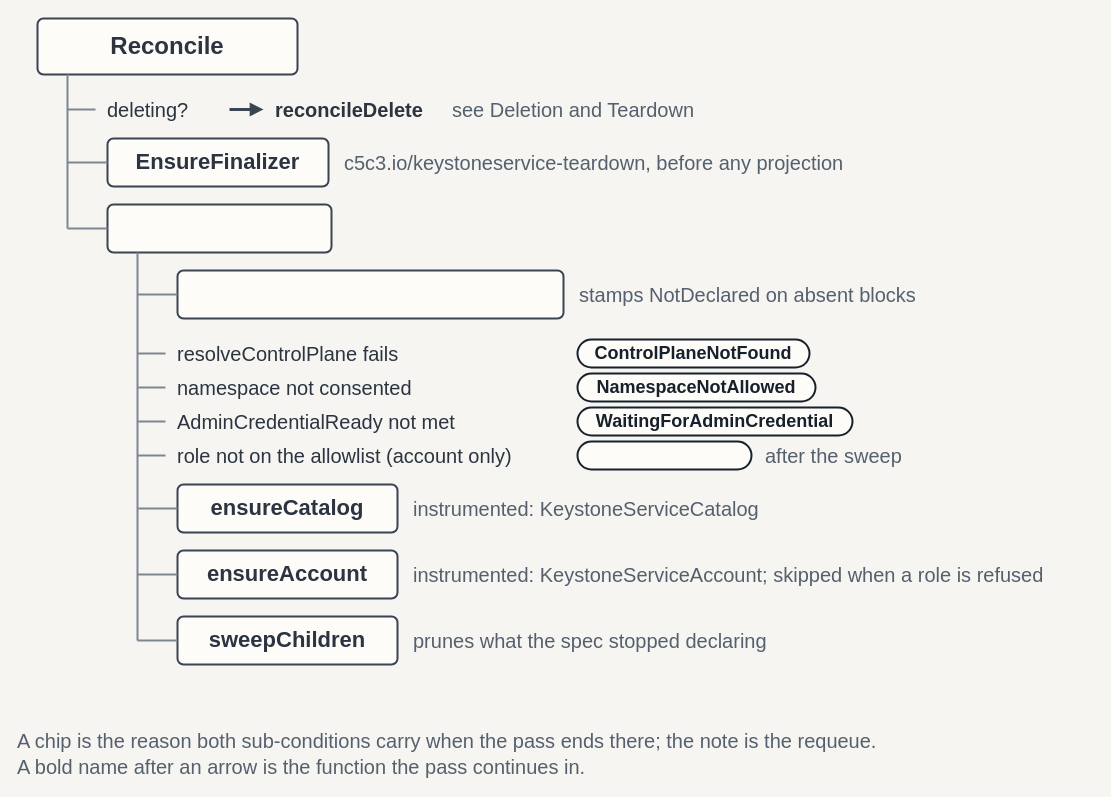
Image size: 1111x797. Some labels were removed from this diagram. The centre of each missing label's shape, as x and y in pixels:
reconcileNormal: point (219, 228)
RoleNotAllowed: point (664, 455)
setUndeclaredBlockConditions: point (370, 294)
